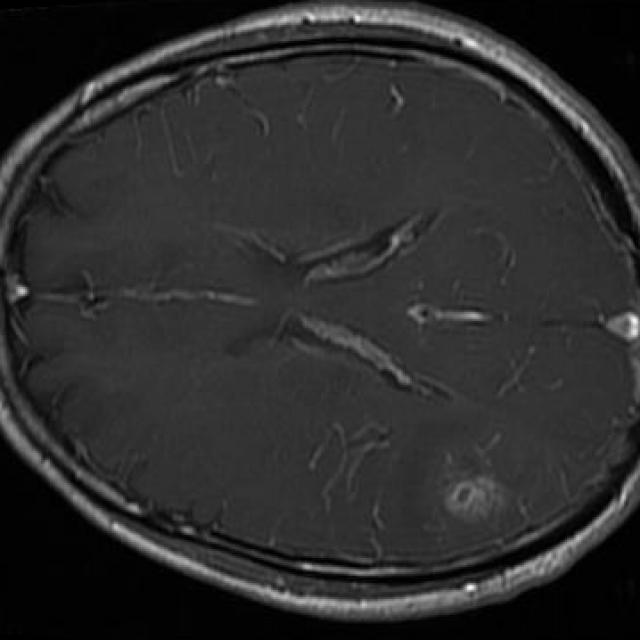glioma: (442, 472, 503, 526)
